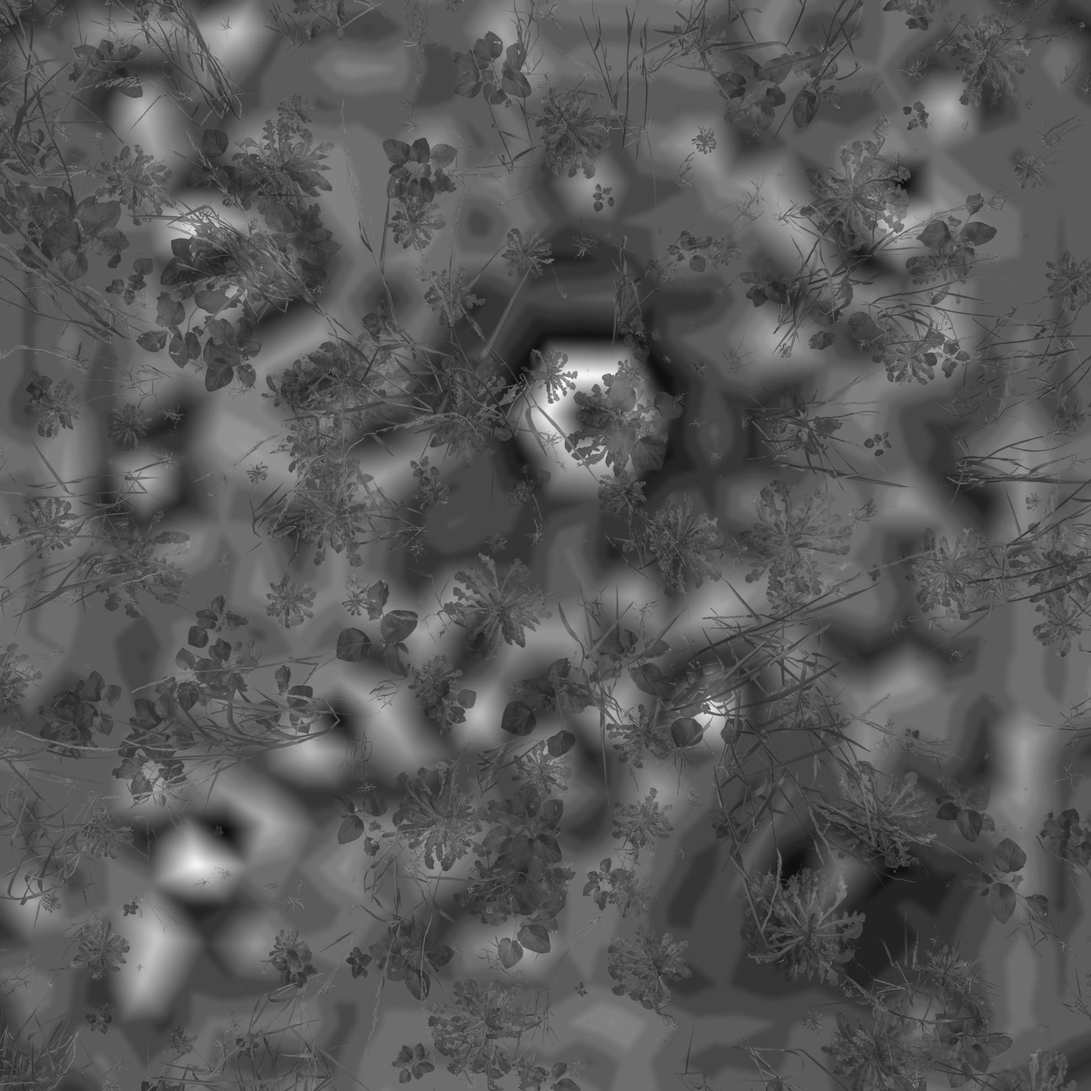landmine: (511, 333, 676, 496), (767, 823, 920, 962)
